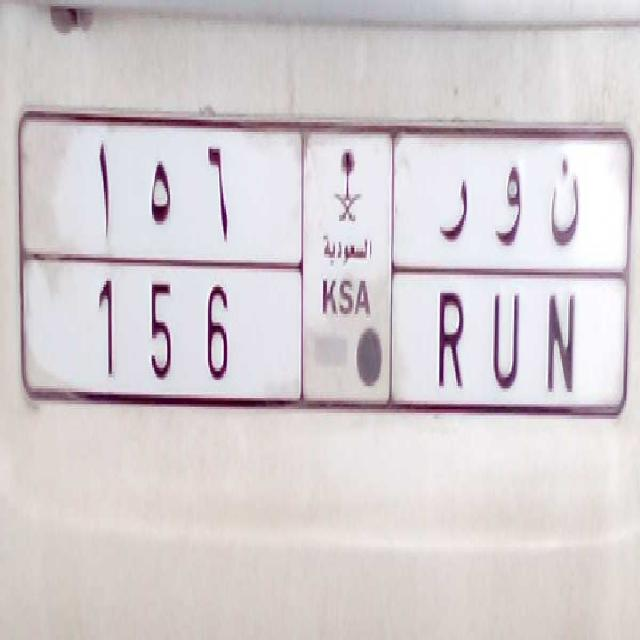license_plate: (74, 254, 596, 432)
